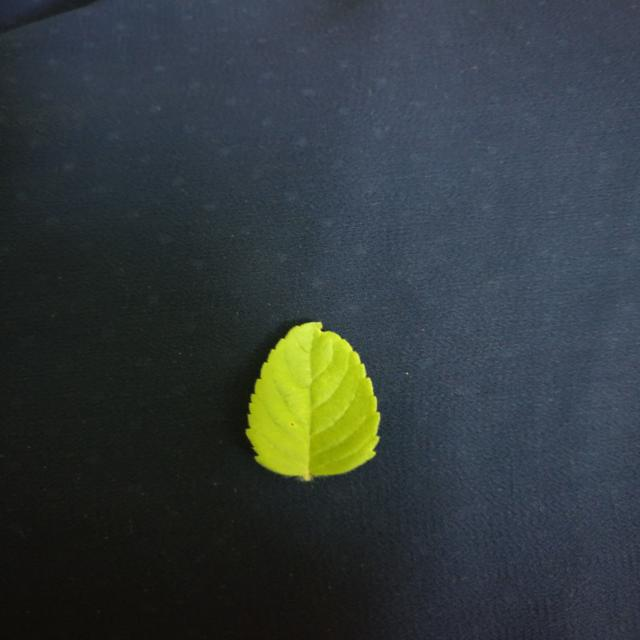tulsi: (247, 322, 380, 481)
